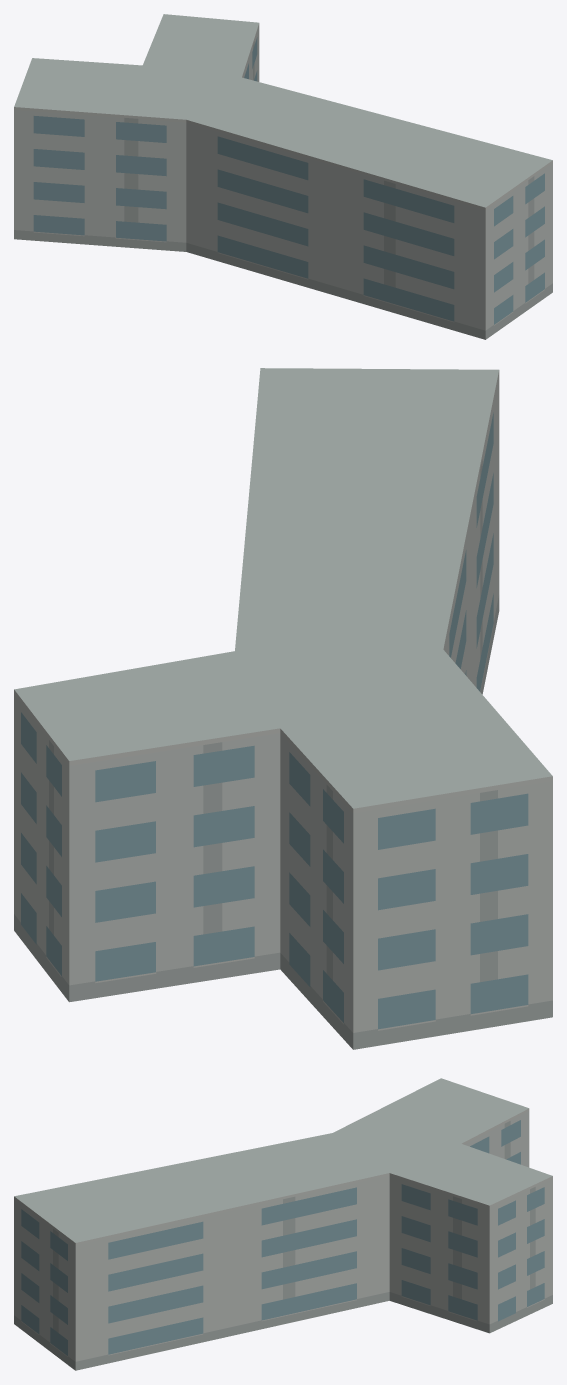
The model's file is residential-ccd12a99-759f-4de9-b041-ec9122351449.glb.
The picture shows the model from 3 angles, top to bottom: view 1: azimuth 30°, elevation 25°; view 2: azimuth 150°, elevation 25°; view 3: azimuth 270°, elevation 25°; orthographic projection. The views are drawn at different scales.
Visible parts, largest first — view 1: residential-ccd12a99-759f-4de9-b041-ec9122351449.tmp; view 2: residential-ccd12a99-759f-4de9-b041-ec9122351449.tmp; view 3: residential-ccd12a99-759f-4de9-b041-ec9122351449.tmp.
Part boxes in pixels (<box>): residential-ccd12a99-759f-4de9-b041-ec9122351449.tmp: <box>14,14,552,339</box>; residential-ccd12a99-759f-4de9-b041-ec9122351449.tmp: <box>14,368,552,1049</box>; residential-ccd12a99-759f-4de9-b041-ec9122351449.tmp: <box>14,1078,552,1370</box>.
Size of the model in its own units: 33.77 by 12.2 by 46.65.
